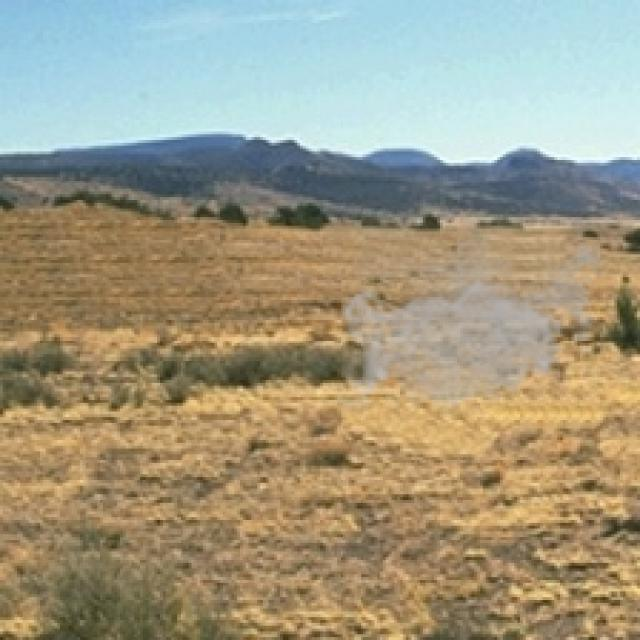smoke: (337, 220, 612, 420)
